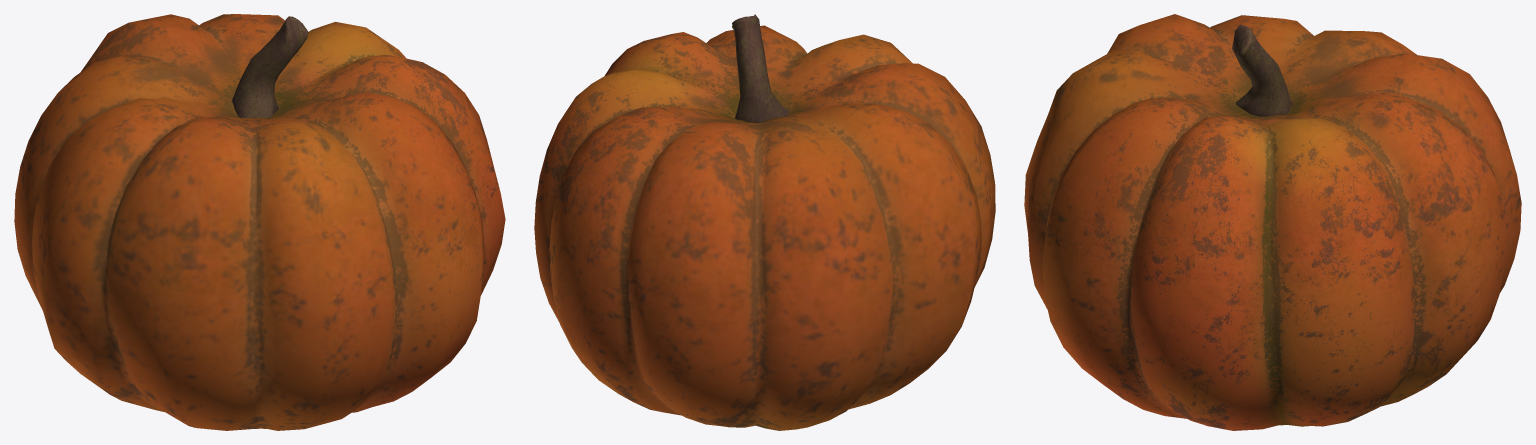
File: pumpkin_lp.glb
The picture shows the model from 3 angles, left to right: view 1: azimuth 30°, elevation 25°; view 2: azimuth 150°, elevation 25°; view 3: azimuth 270°, elevation 25°; orthographic projection. The views are drawn at different scales.
Visible parts, largest first — view 1: Group36326_Retopo, Group19074_Retopo; view 2: Group36326_Retopo, Group19074_Retopo; view 3: Group36326_Retopo, Group19074_Retopo.
Boxes of the visible parts, <box> form: Group36326_Retopo: <box>14,14,505,430</box>; Group19074_Retopo: <box>232,16,308,117</box>; Group36326_Retopo: <box>534,25,995,430</box>; Group19074_Retopo: <box>732,14,789,123</box>; Group36326_Retopo: <box>1024,14,1521,430</box>; Group19074_Retopo: <box>1232,24,1292,116</box>.
Size of the model in its own units: 41.07 by 34.84 by 41.74.
Materials: 1 (1 with a texture image).
